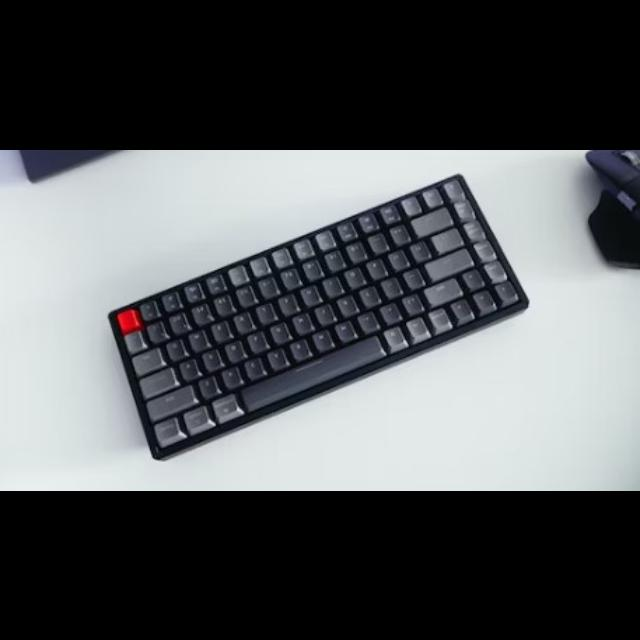Computer-Keyboard: (105, 174, 531, 460)
